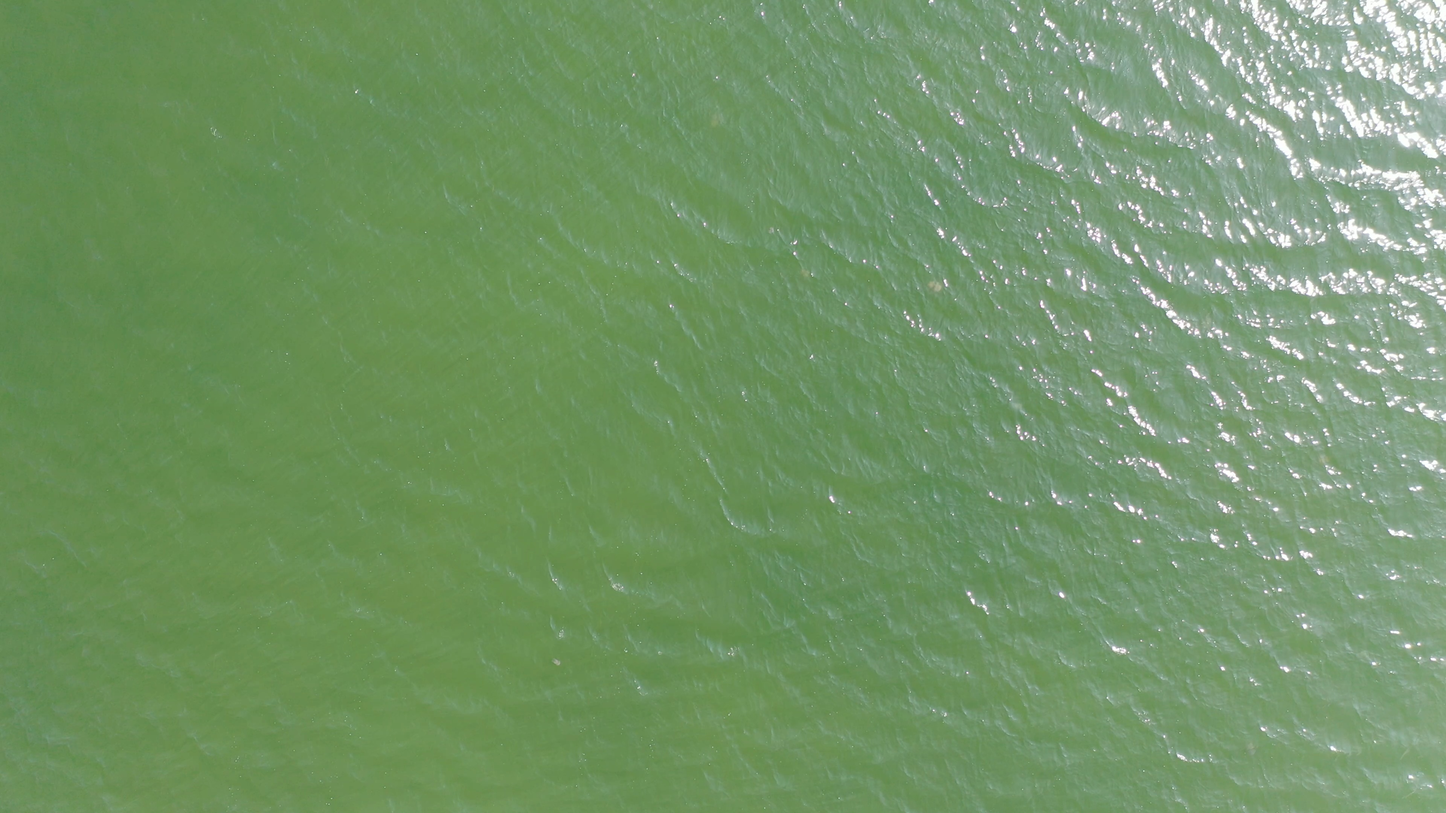meduse: (929, 283, 942, 293), (1253, 493, 1266, 502), (1252, 493, 1265, 501), (802, 269, 811, 279), (712, 116, 720, 127), (1014, 401, 1022, 411), (768, 227, 775, 234), (558, 632, 564, 640)
